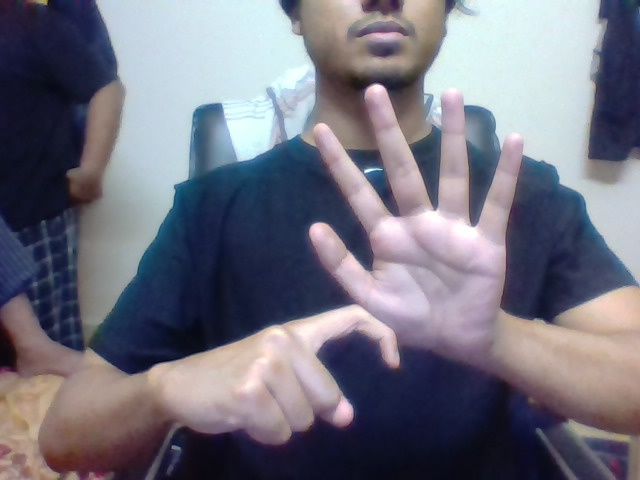R: (283, 303, 404, 428)
